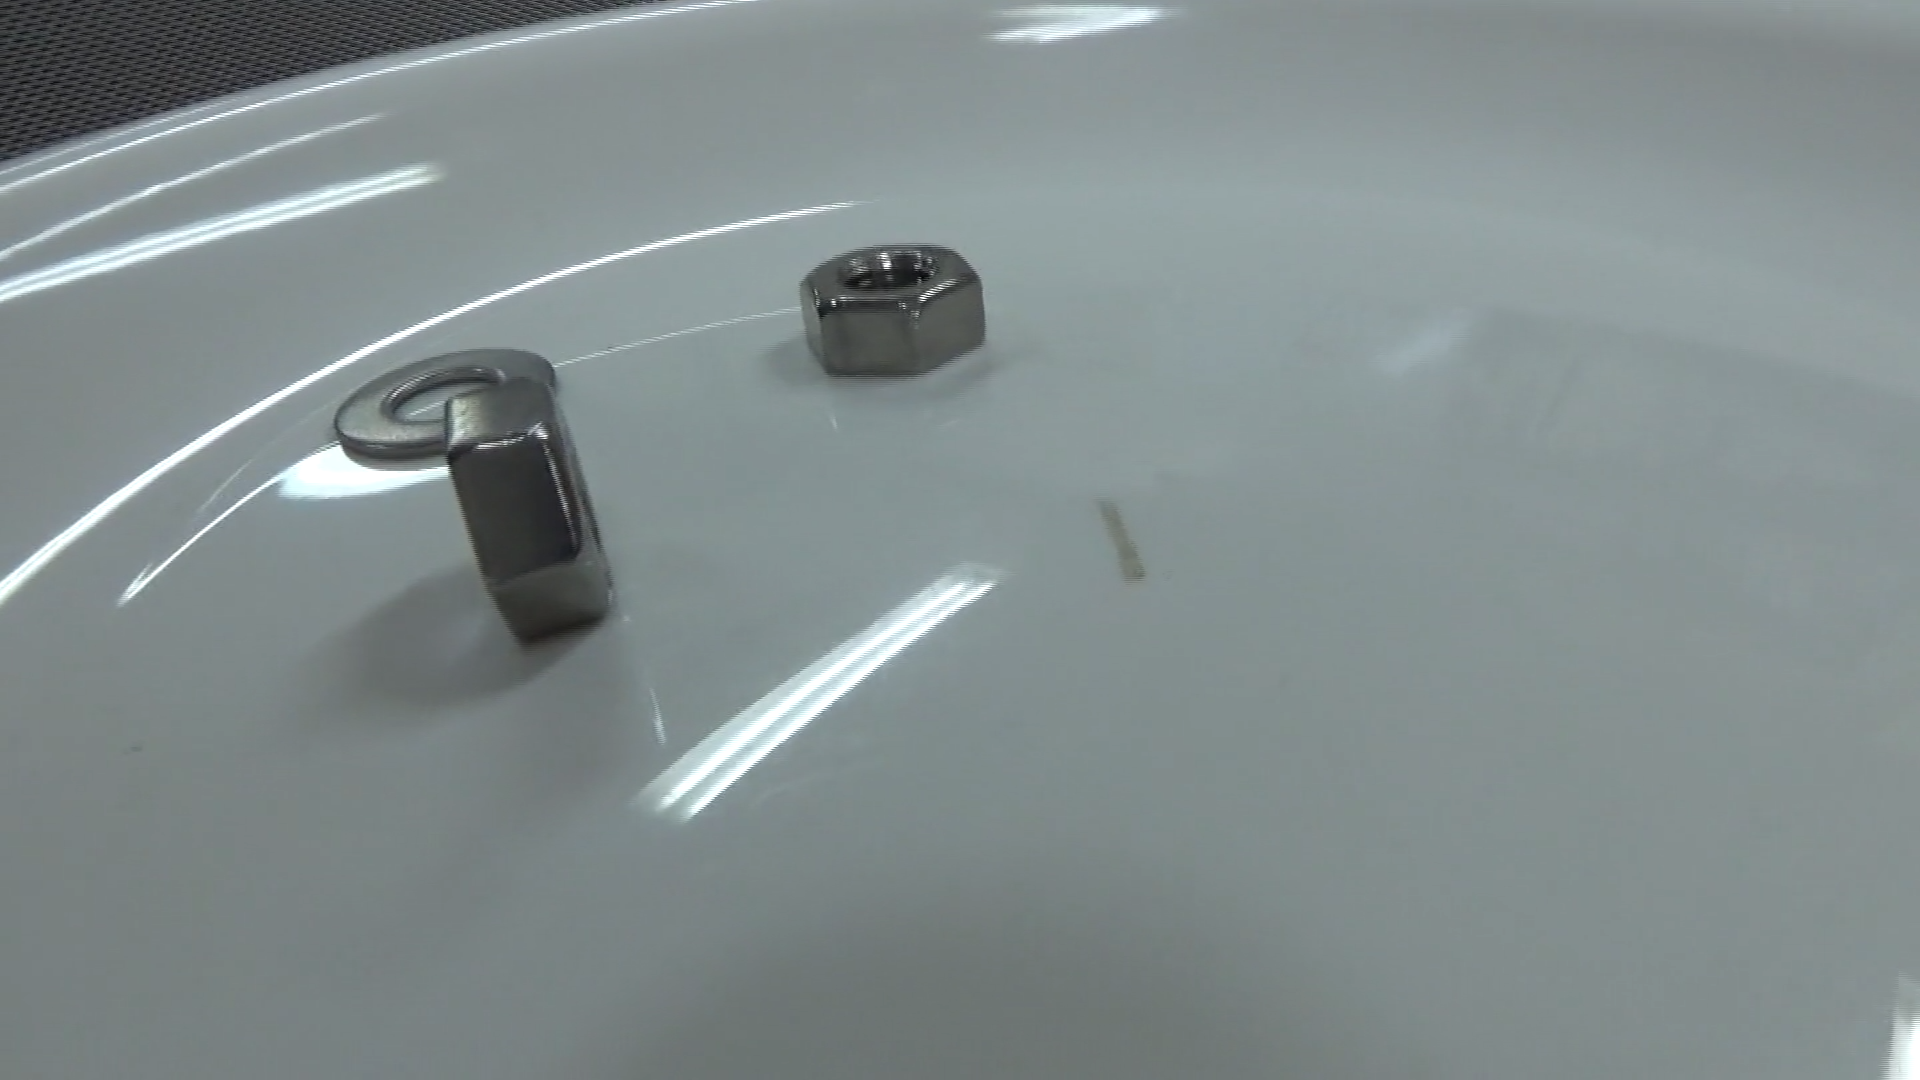nut: (436, 375, 611, 645), (791, 237, 985, 378)
washer: (330, 343, 556, 468)
